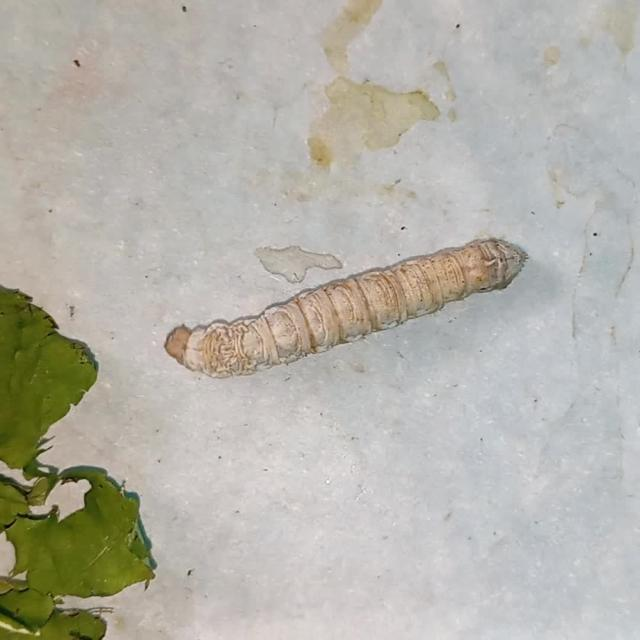Grasserie: (158, 215, 538, 388)
